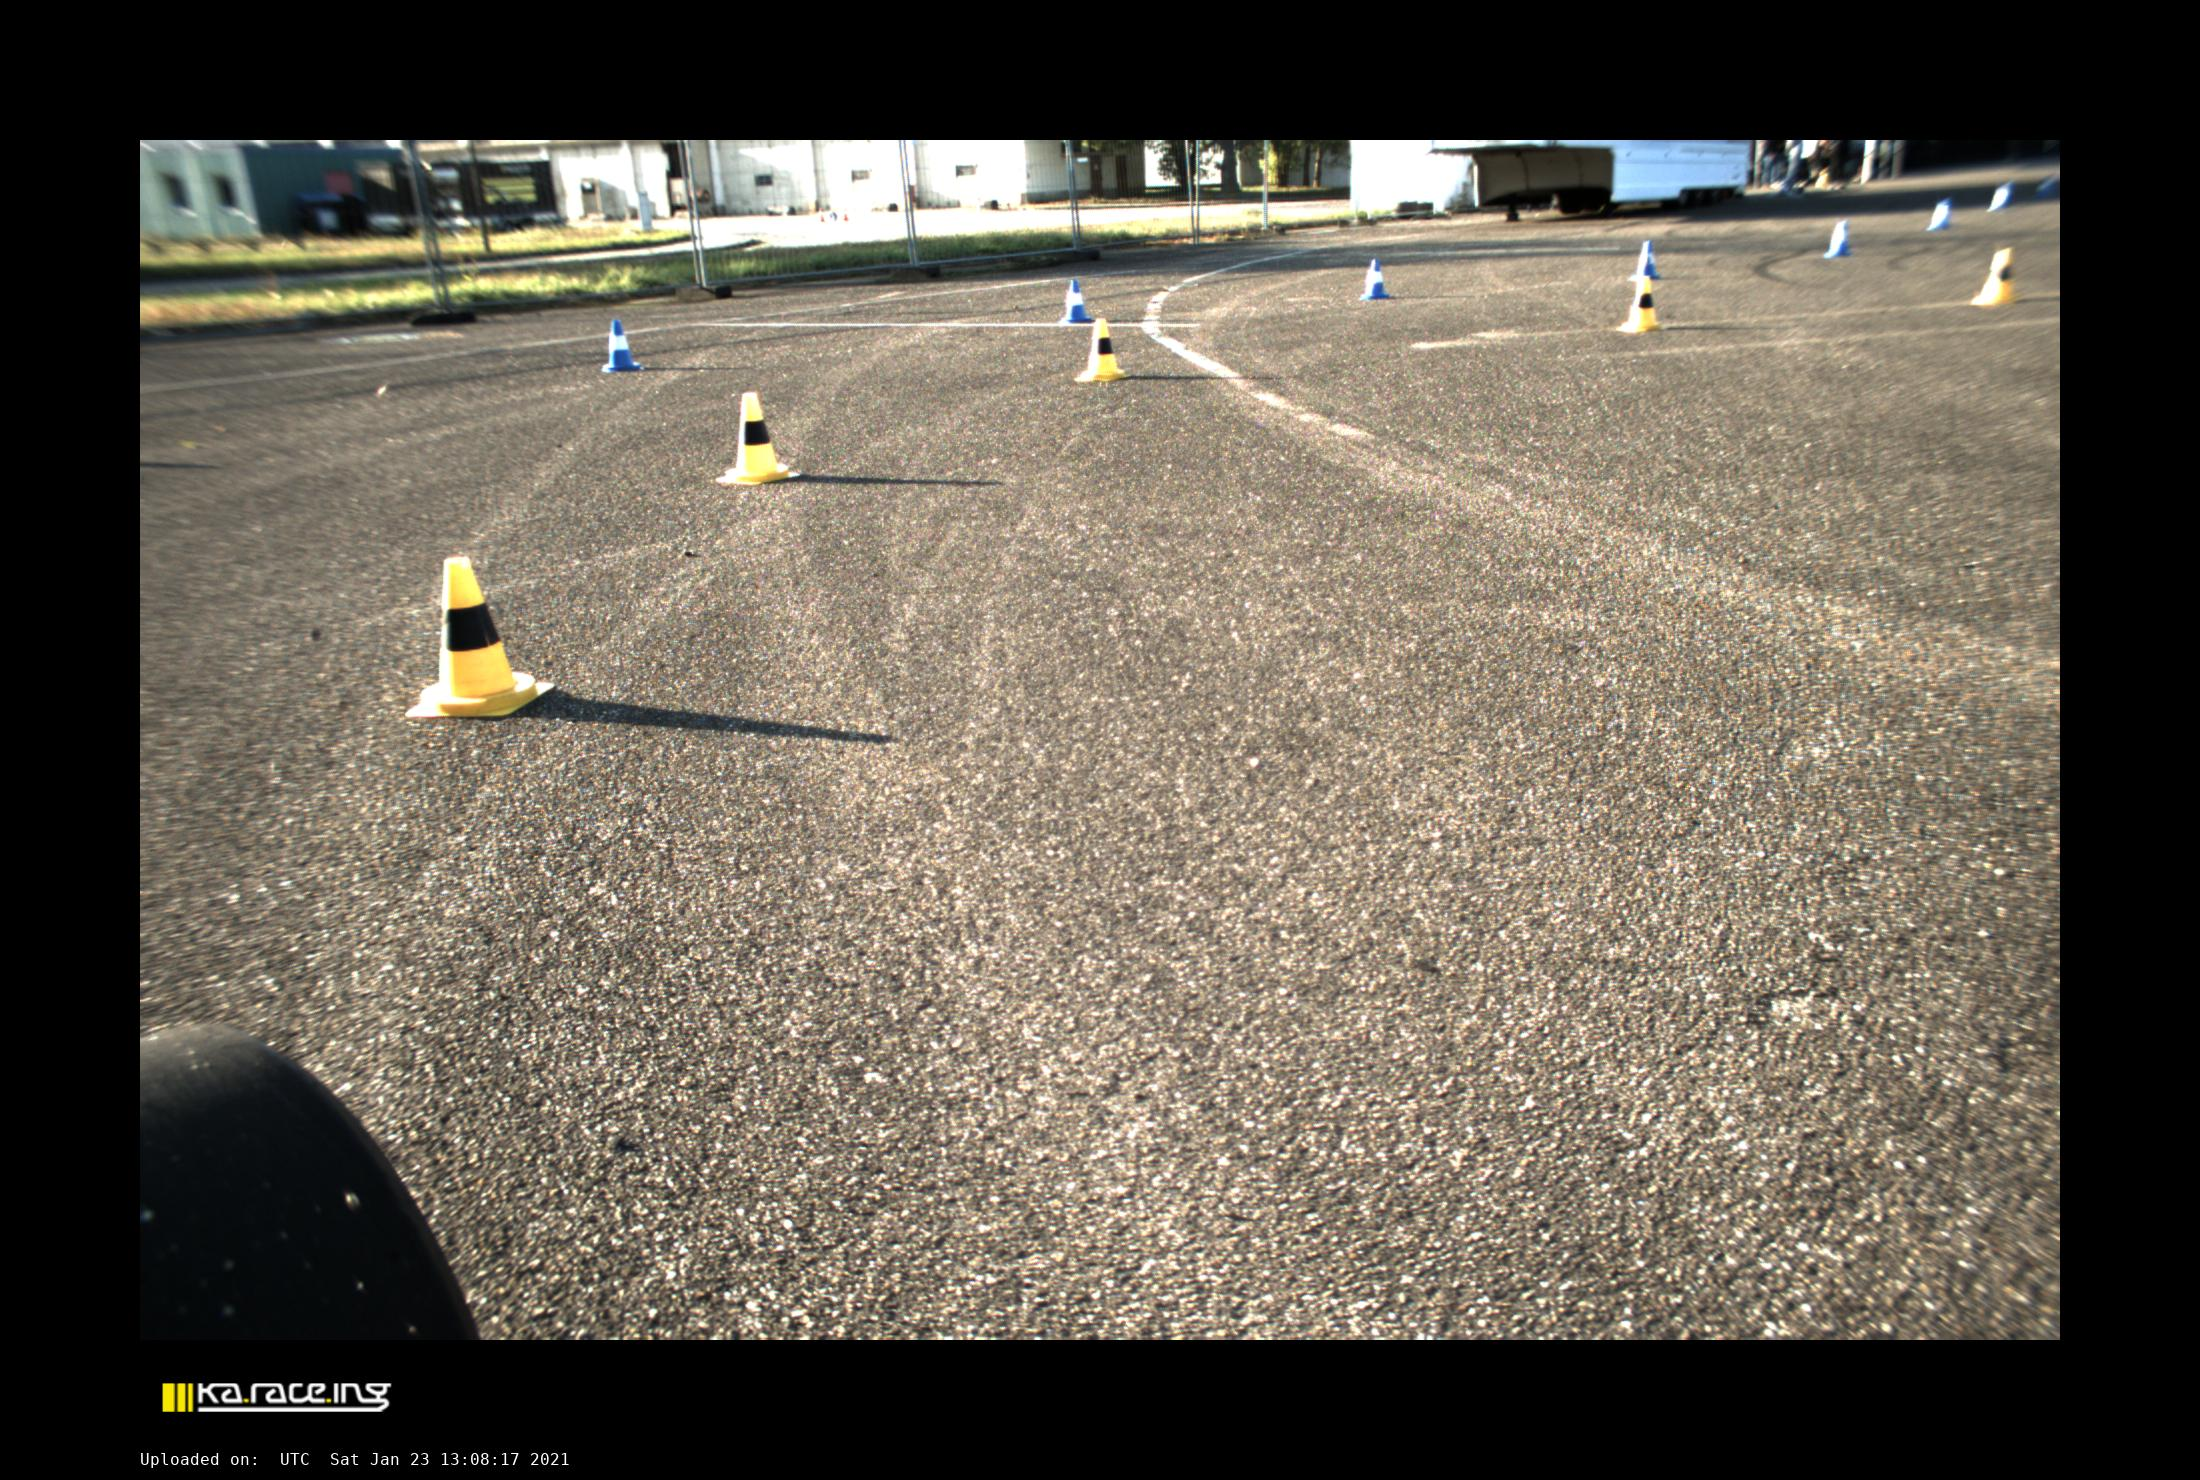blue_cone: (600, 319, 641, 373), (1059, 279, 1093, 324), (1627, 240, 1662, 281), (1358, 258, 1391, 301), (1823, 221, 1852, 258), (1985, 182, 2012, 211), (1926, 200, 1951, 231), (2036, 175, 2053, 202)
yellow_cone: (406, 557, 553, 715), (718, 390, 798, 486), (1077, 317, 1126, 382), (1969, 246, 2018, 307), (1615, 274, 1663, 334)
